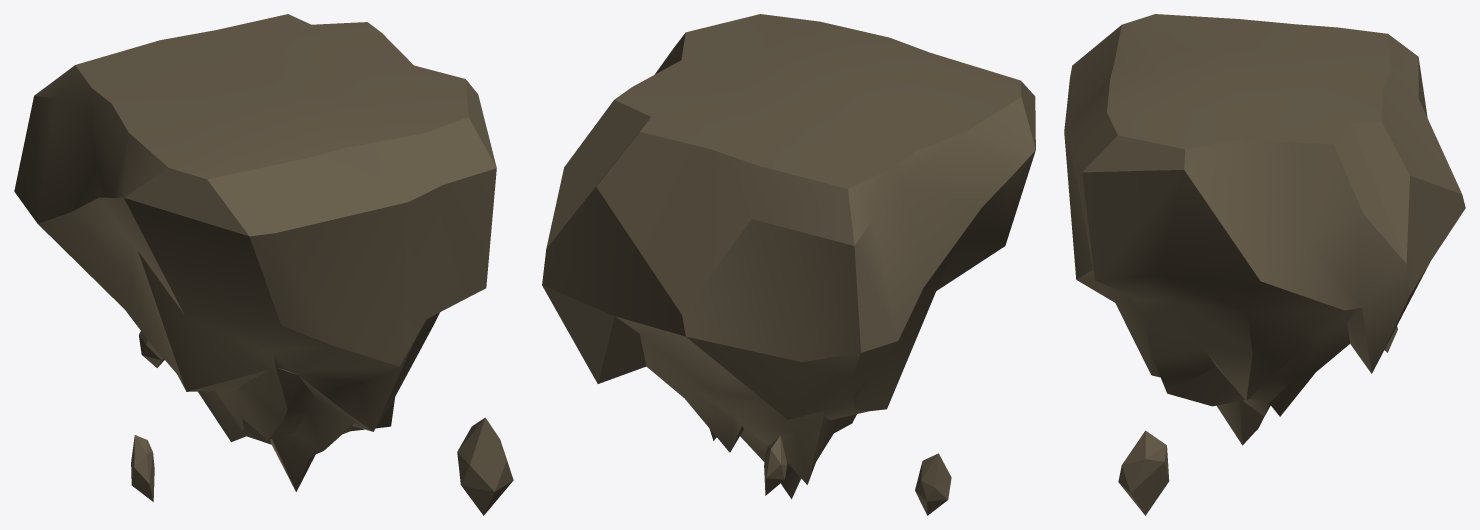
The model's file is Rock island.fbx.
3 views of the same model, side by side, from view 1: azimuth 30°, elevation 25°; view 2: azimuth 150°, elevation 25°; view 3: azimuth 270°, elevation 25° (orthographic). The views are drawn at different scales.
Visible parts, largest first — view 1: Cube.011, Icosphere.002, Icosphere.003; view 2: Cube.011, Icosphere.003, Icosphere.004; view 3: Cube.011, Icosphere.002.
Boxes of the visible parts, <box> form: Cube.011: <box>14,14,496,491</box>; Icosphere.002: <box>457,417,513,515</box>; Icosphere.003: <box>131,435,154,501</box>; Cube.011: <box>542,14,1035,499</box>; Icosphere.003: <box>915,453,951,515</box>; Icosphere.004: <box>764,435,787,495</box>; Cube.011: <box>1064,14,1465,445</box>; Icosphere.002: <box>1118,430,1169,515</box>.
Bounding box in the file's own units: 275 × 280 × 271.
